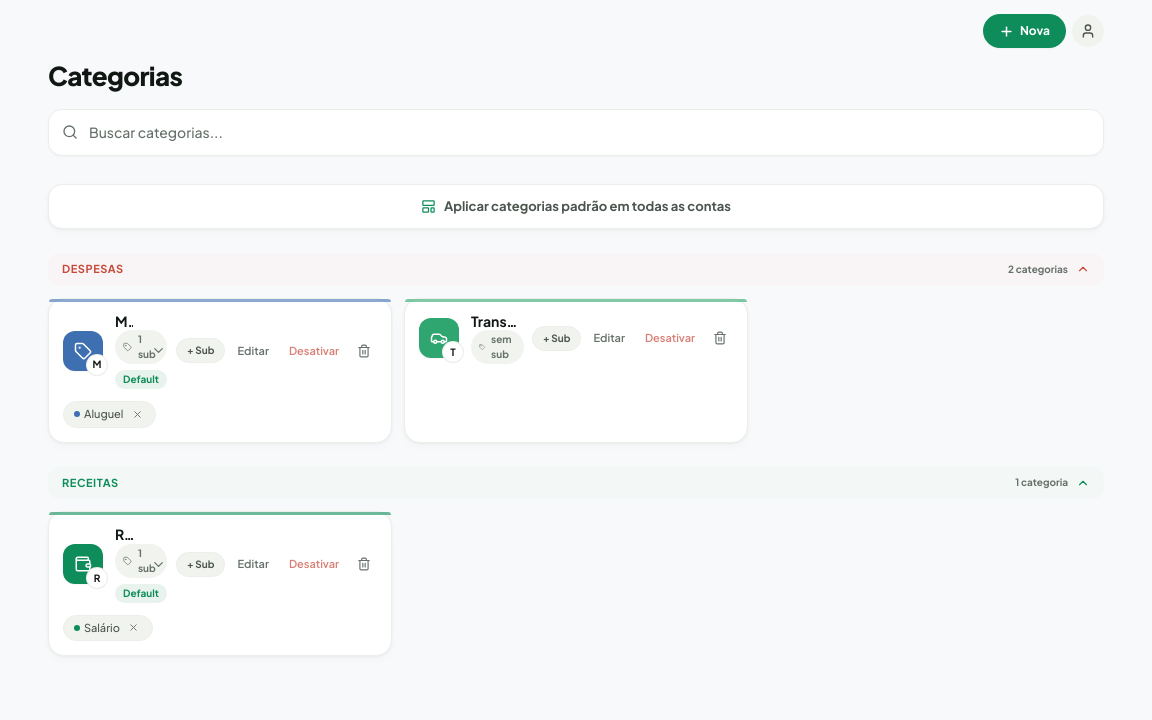
CategoriesPage — macros, defaults e exclusão (item 11) › expande/recolhe subs pela seta da macro
Click the button named "Alternar subcategorias de Moradia".
click(158, 351)  # box [145,337,172,364]
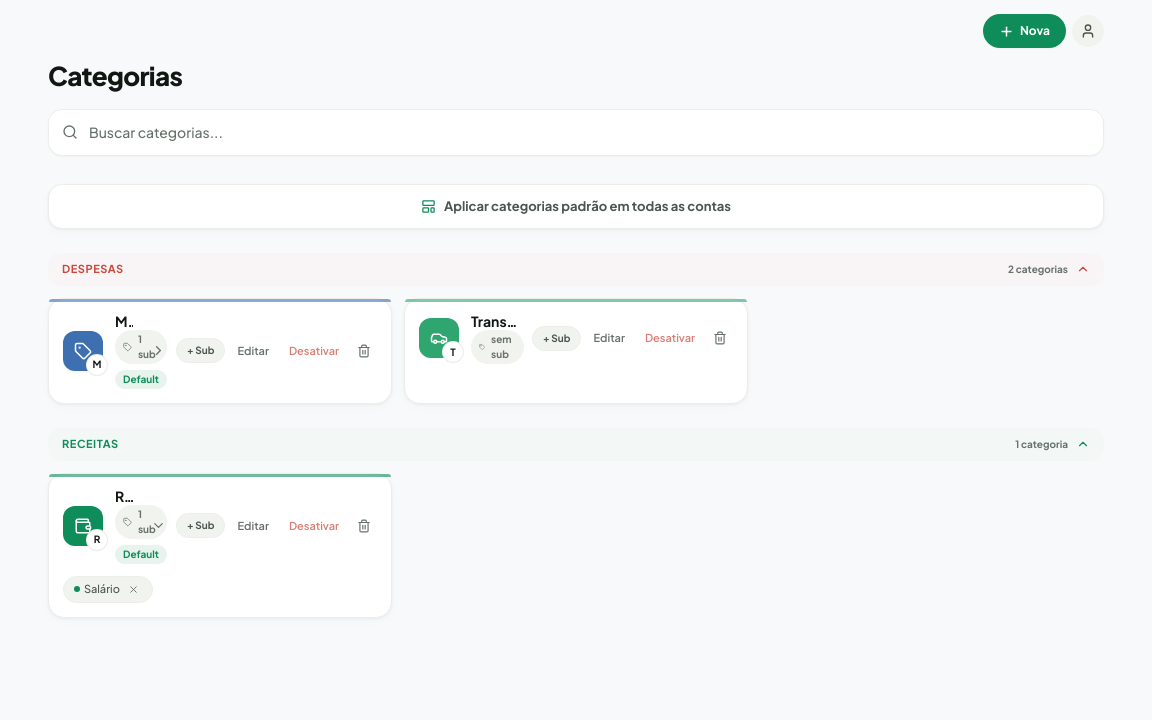
Expected: the text "Aluguel" is gone
Click the button named "Alternar subcategorias de Moradia".
click(158, 351)  # box [145,337,172,364]
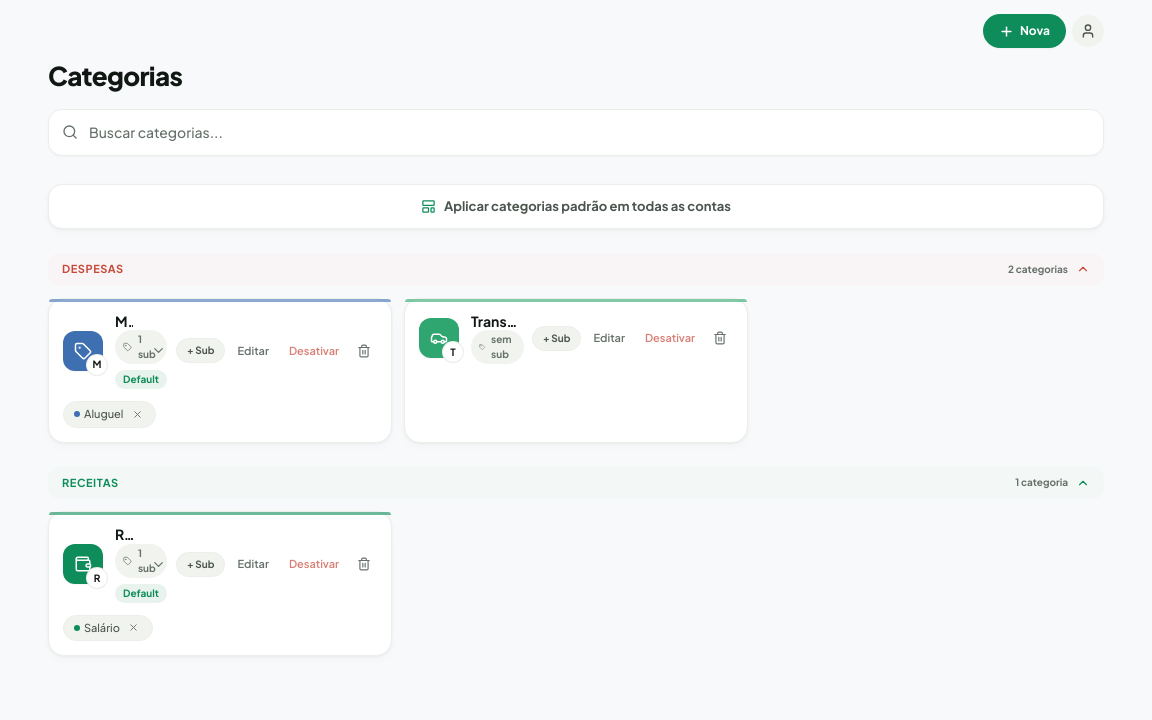
Expected: the text "Aluguel" is shown, [63,401,156,428]
